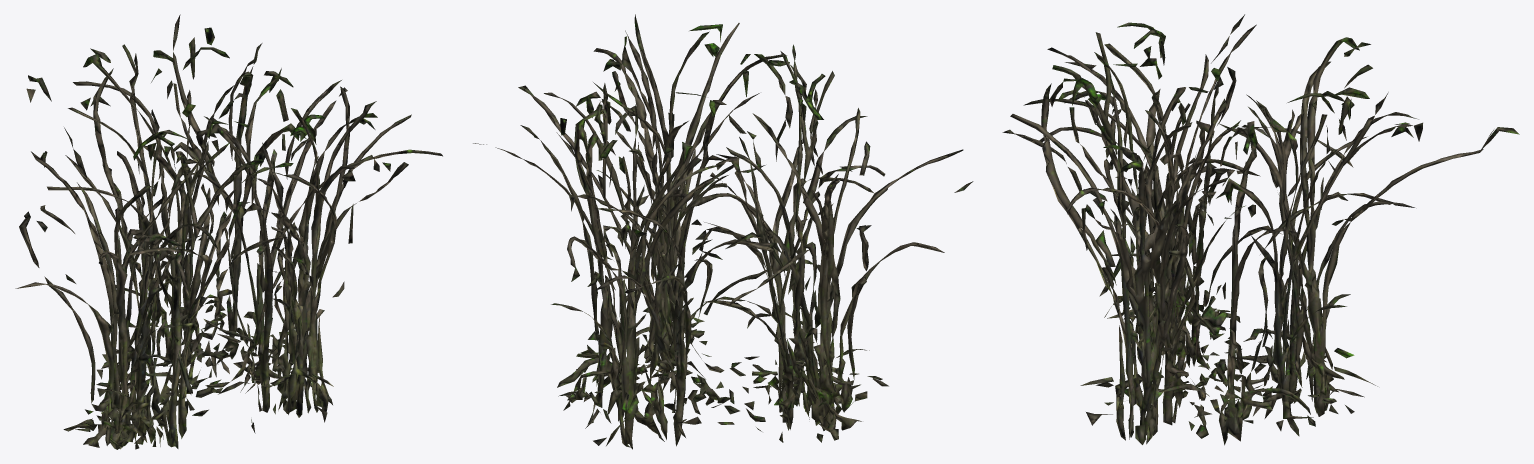
File: mangrove-three3.glb
3 renders of one model, left to right at view 1: azimuth 30°, elevation 25°; view 2: azimuth 150°, elevation 25°; view 3: azimuth 270°, elevation 25°, orthographic. The views are drawn at different scales.
Size of the model in its own units: 1.71 by 1.33 by 1.76.
Materials: 1 (1 with a texture image).
